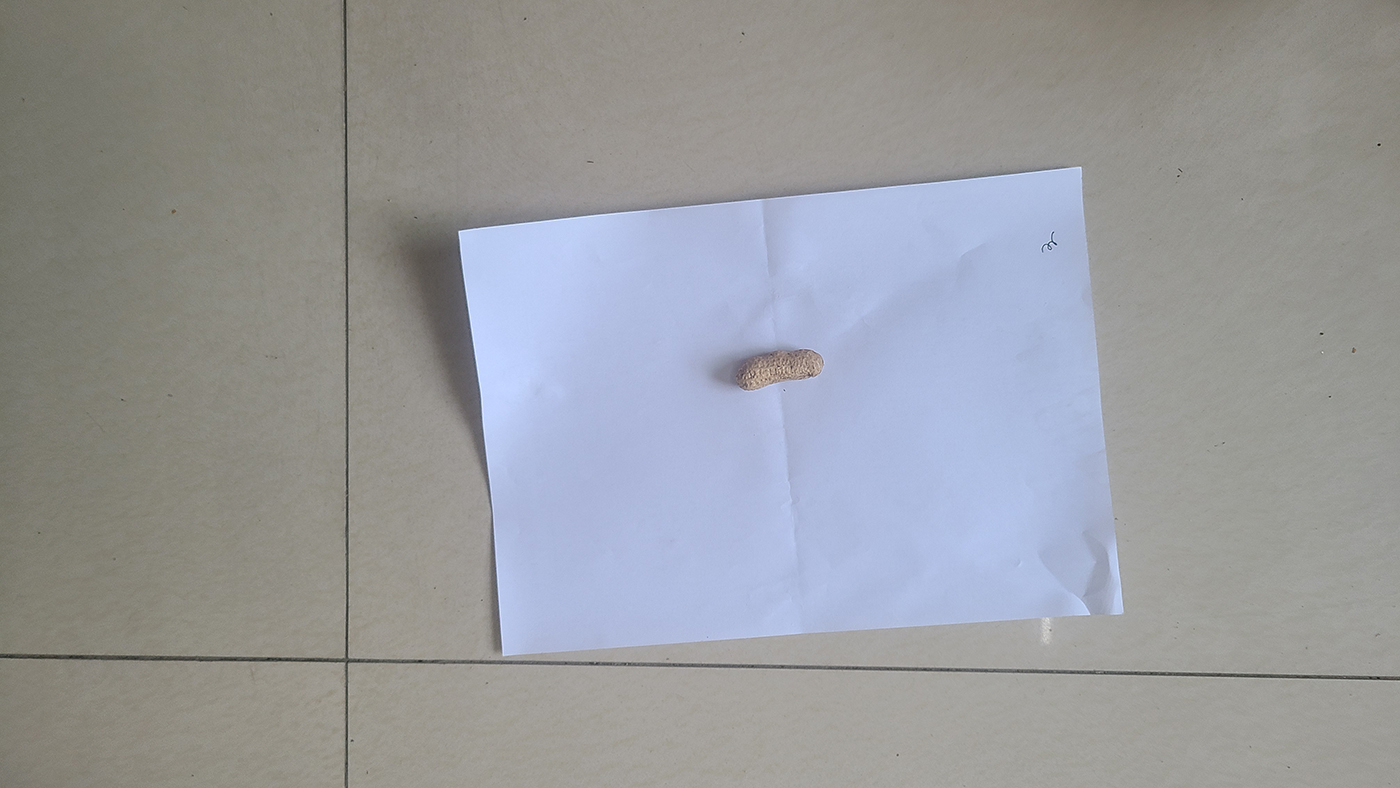h: (734, 347, 824, 393)
